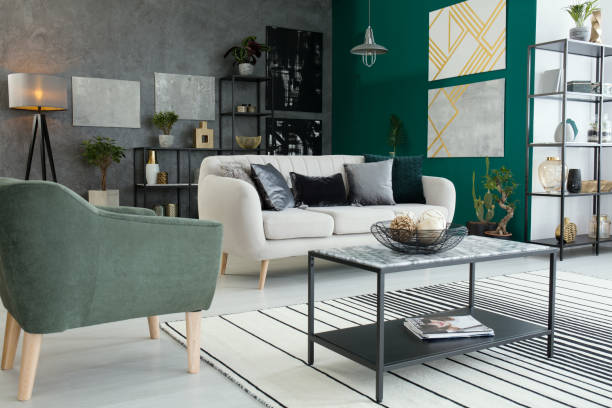chair: (0, 174, 224, 403)
floor lamp: (3, 69, 69, 182)
small plant: (78, 138, 124, 206), (228, 33, 262, 75), (148, 110, 181, 147), (564, 0, 592, 42)
sofa: (196, 145, 461, 291)
table: (304, 234, 559, 402)
wall art: (424, 78, 507, 159), (427, 4, 511, 82), (263, 22, 324, 114), (69, 72, 142, 130), (152, 68, 219, 122), (263, 115, 325, 154)
